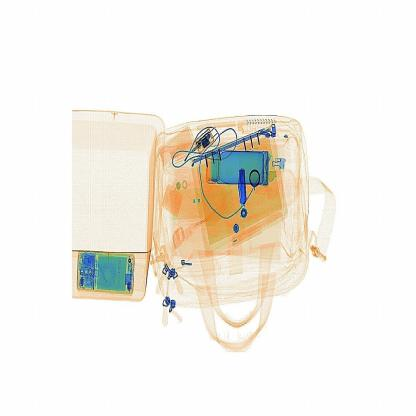knife: (229, 162, 253, 214)
